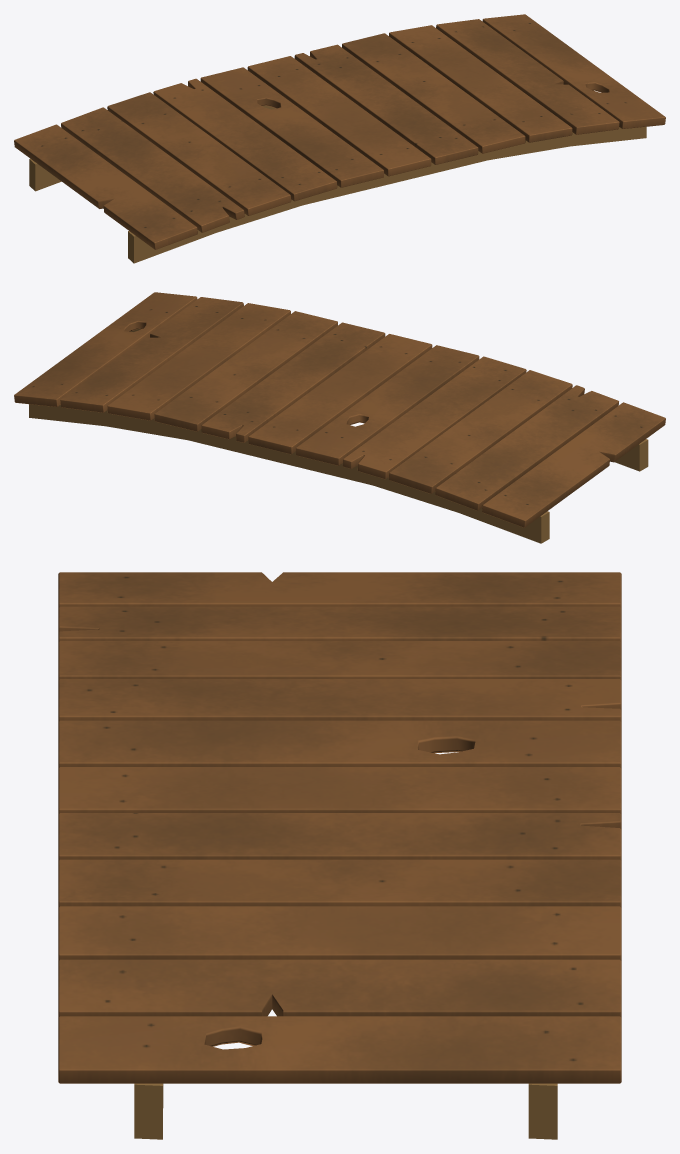
File: bridge.fbx
3 views of the same model, one above another, from view 1: azimuth 30°, elevation 25°; view 2: azimuth 150°, elevation 25°; view 3: azimuth 270°, elevation 25° (orthographic). The views are drawn at different scales.
Parts seen in each view (by area): view 1: polySurface404; view 2: polySurface404; view 3: polySurface404.
Boxes of the visible parts, left/top/right/bottom form: polySurface404: left=14, top=14, right=665, bottom=263; polySurface404: left=14, top=292, right=665, bottom=543; polySurface404: left=58, top=572, right=621, bottom=1139.
Bounding box in the file's own units: 7.78 × 0.7492 × 3.69.
Materials: 1 (1 with a texture image).
